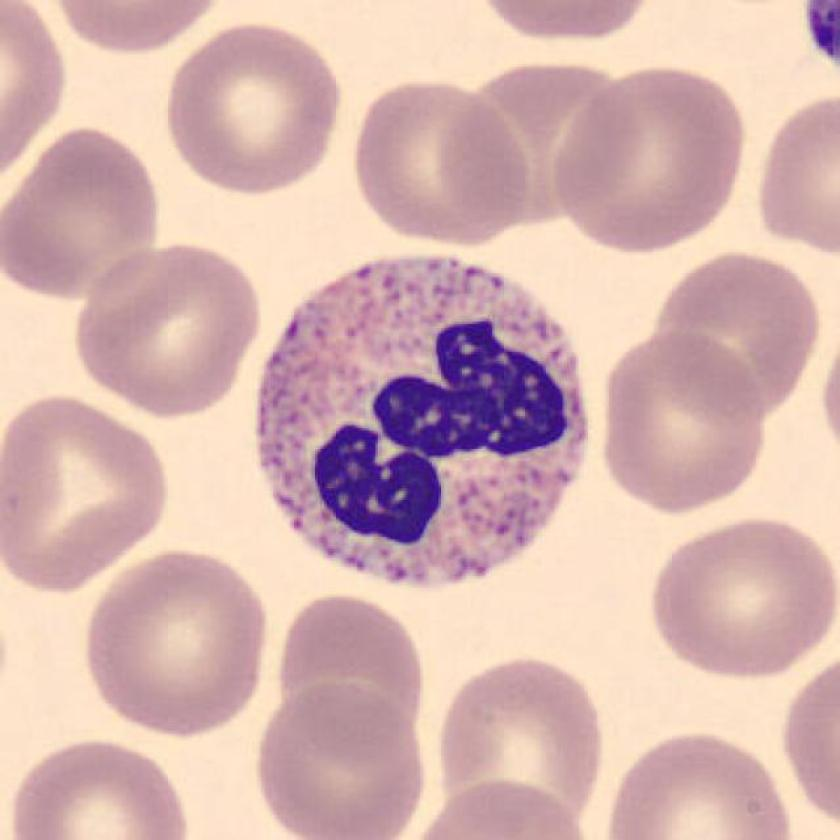neutrophil: (258, 257, 588, 581)
